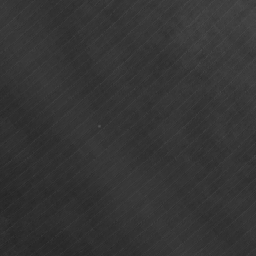Target: (96, 123, 102, 129)
